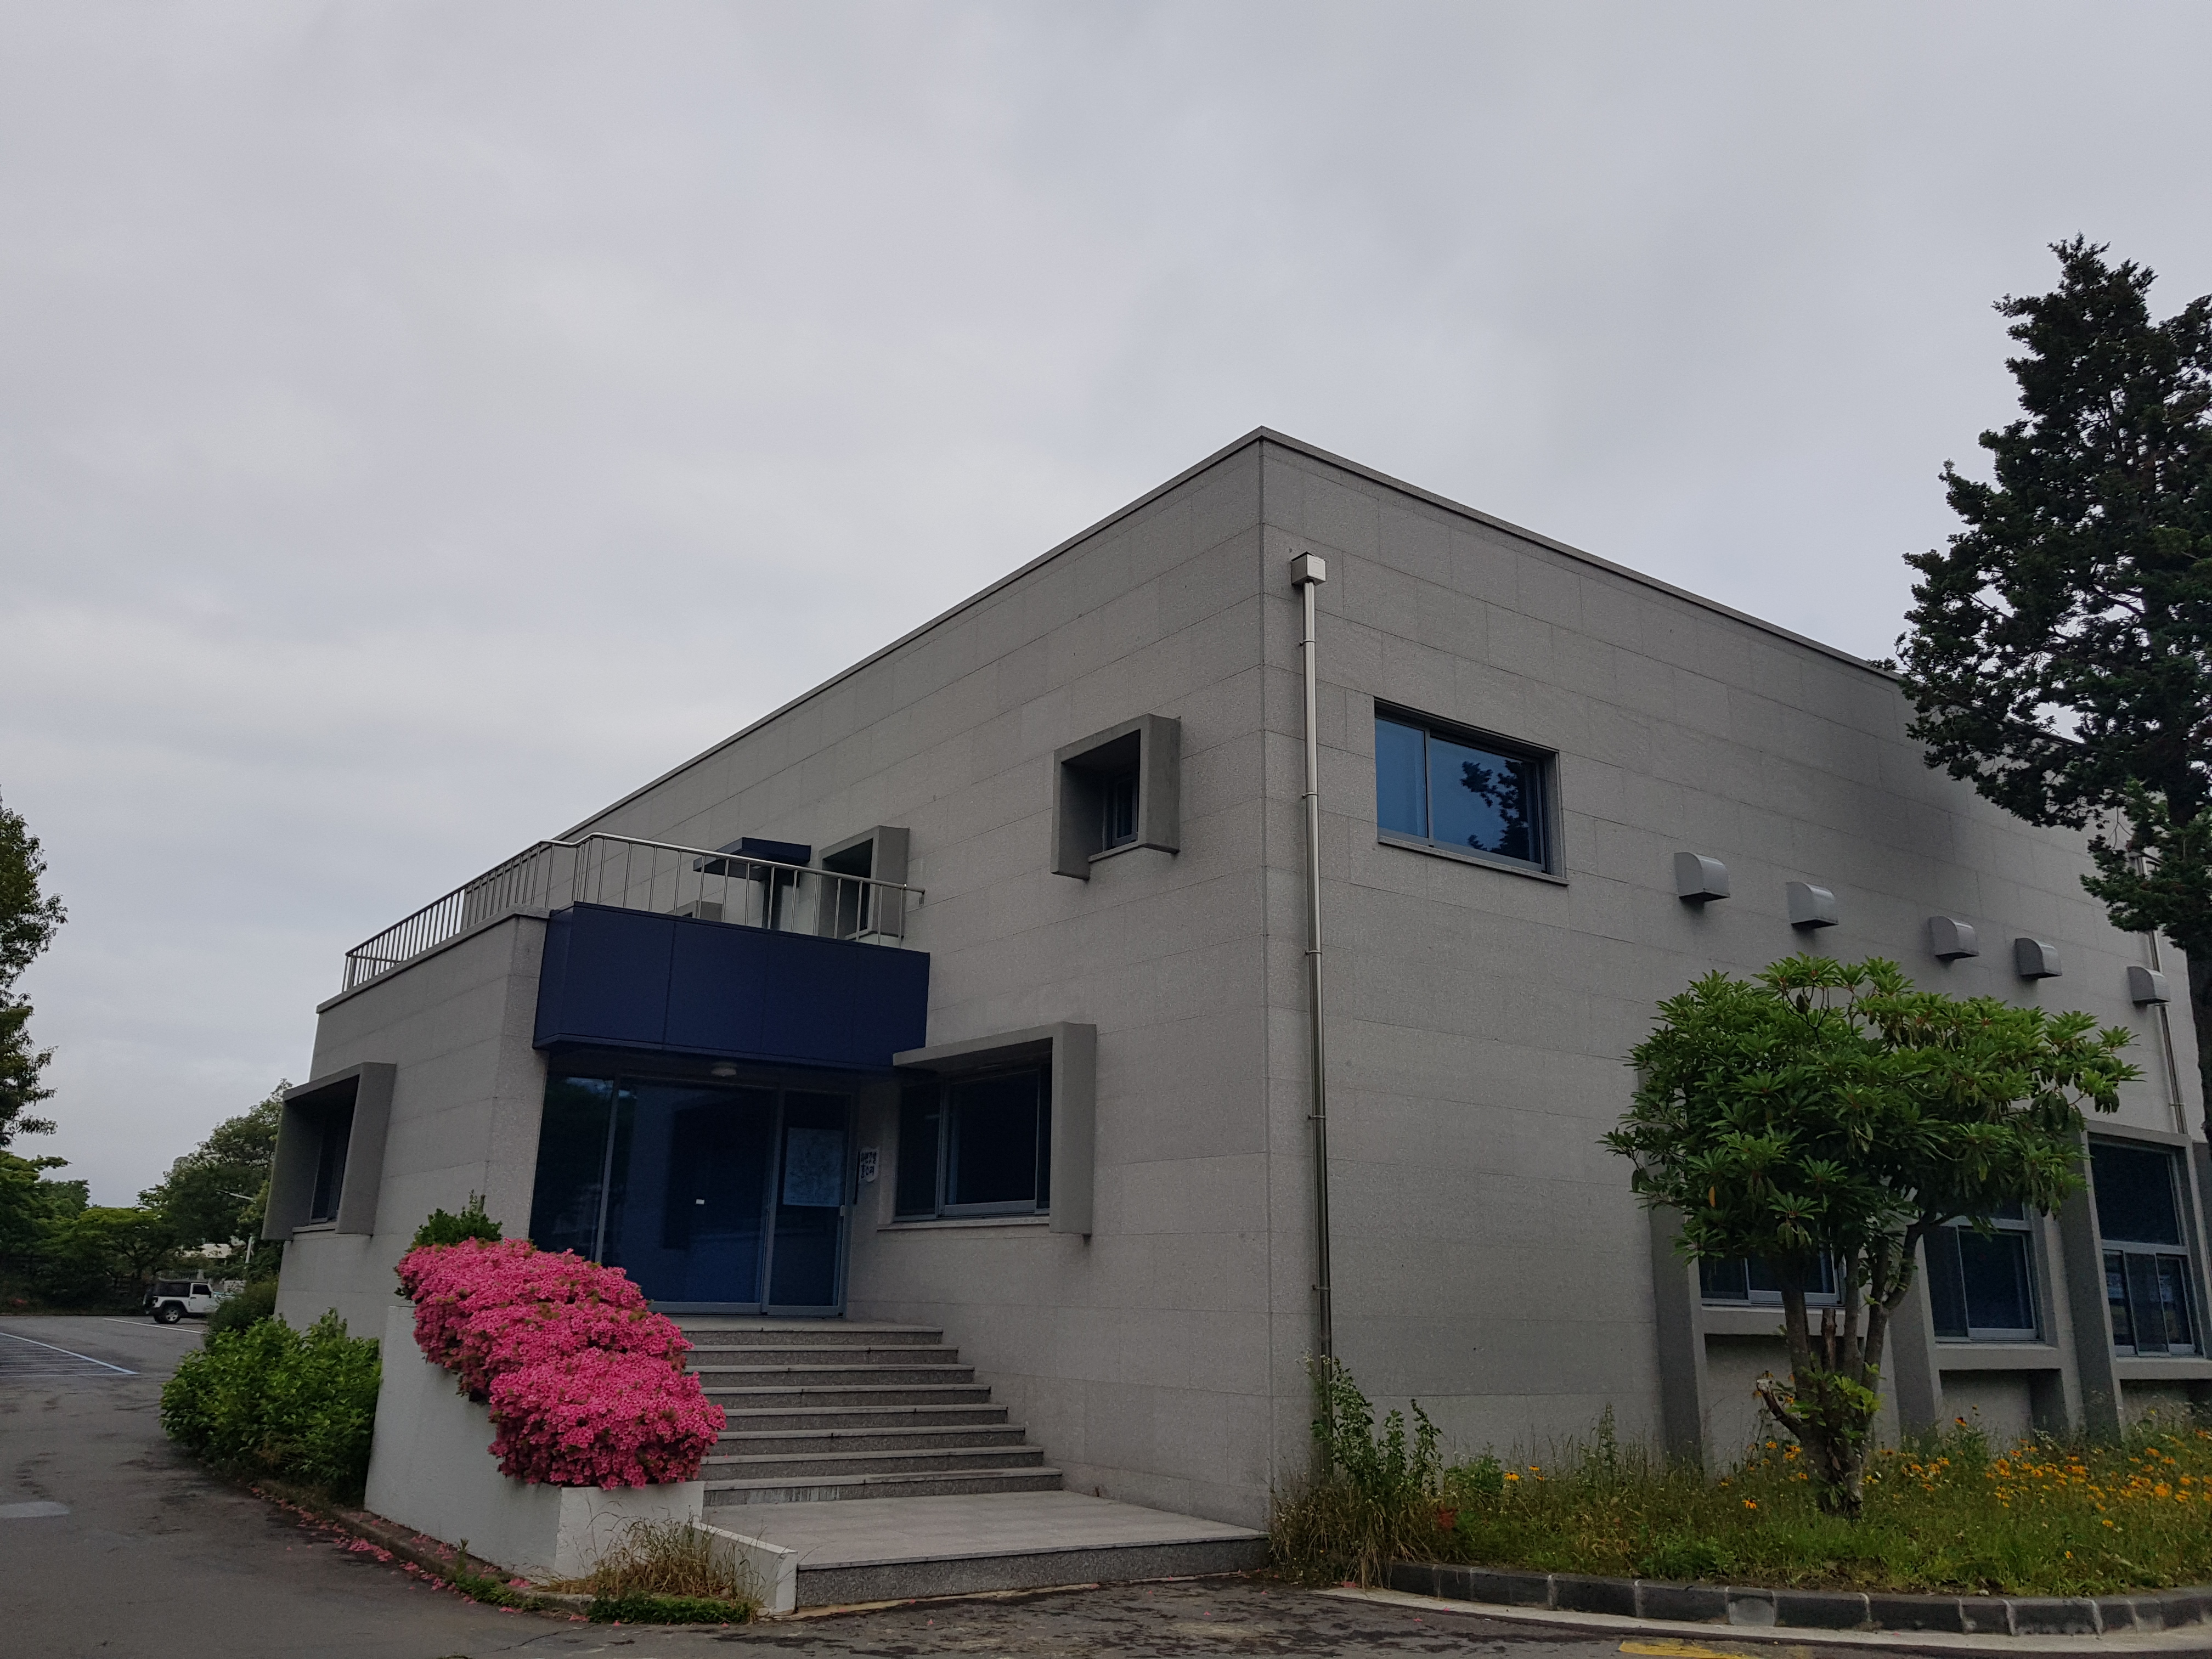College of Social Sciences: (221, 406, 2156, 1525), (444, 763, 1228, 1608)
